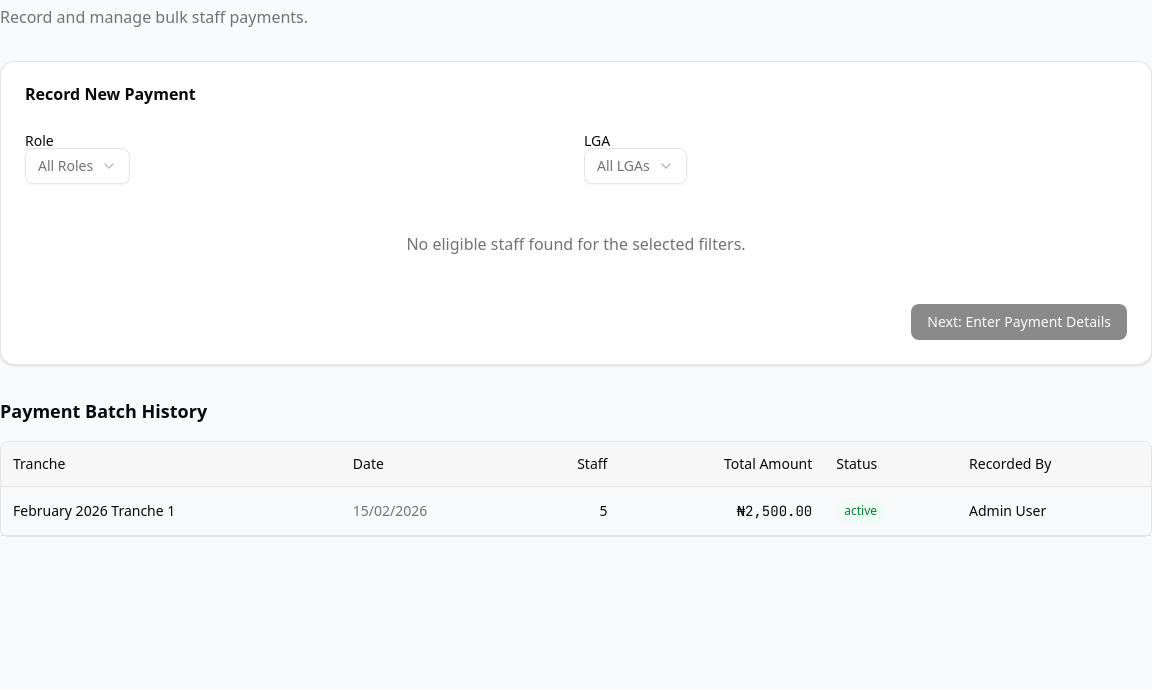
Test: RemunerationPage › shows batch detail panel when a batch row is clicked
Click the row with test id "batch-row-batch-1": (576, 511) [1,486,1151,536]
(page scrolled)
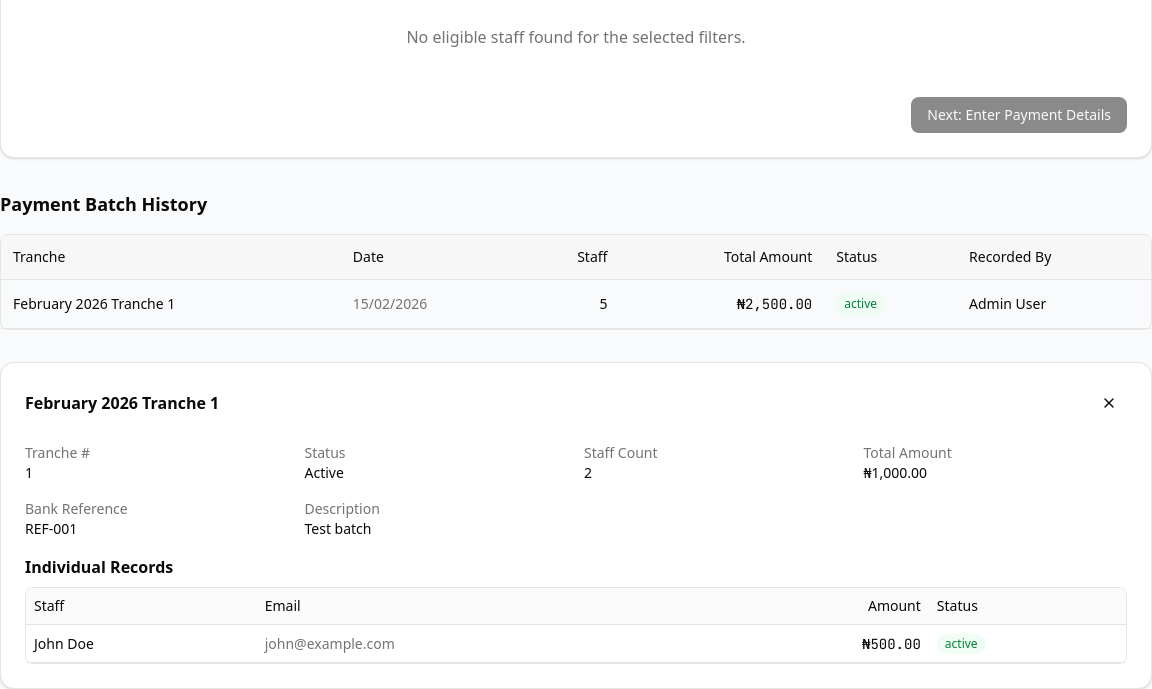
Expected: the element with test id "batch-detail-panel" is shown, [0,362,1151,688]
Expected: the text "John Doe" is shown, [26,624,257,662]
